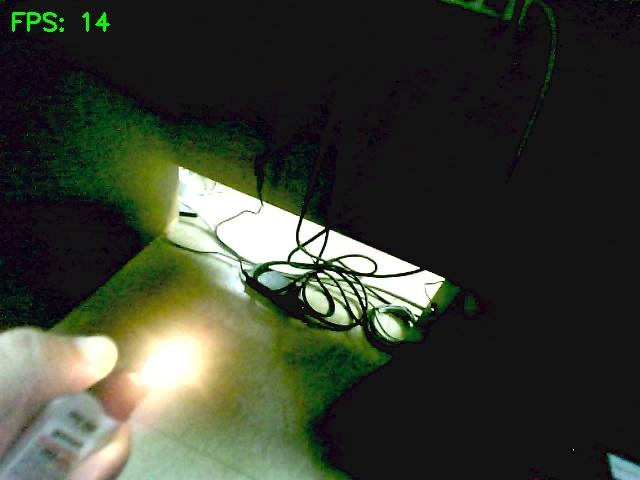fire: (135, 338, 202, 385)
smoke: (132, 336, 204, 388)
